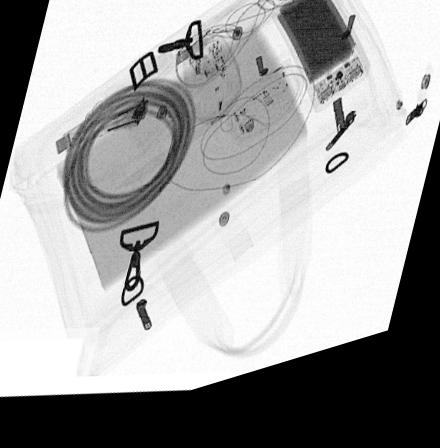Powerbank: (270, 0, 368, 133)
